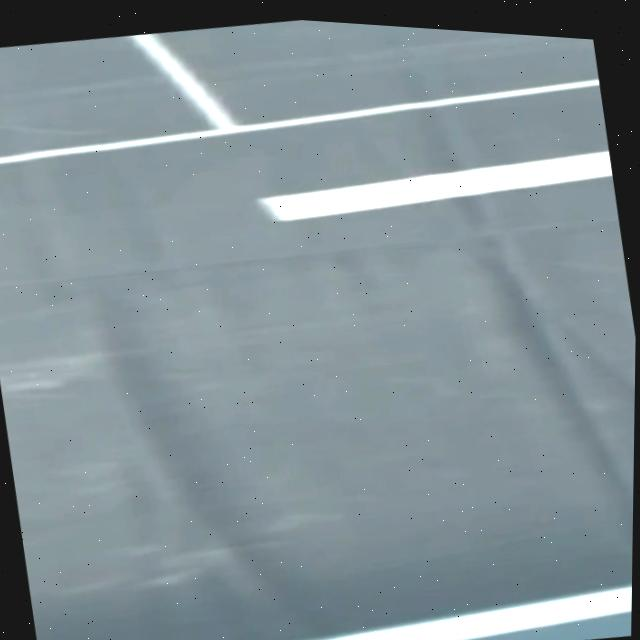center: (259, 151, 613, 220)
left: (314, 585, 632, 640)
